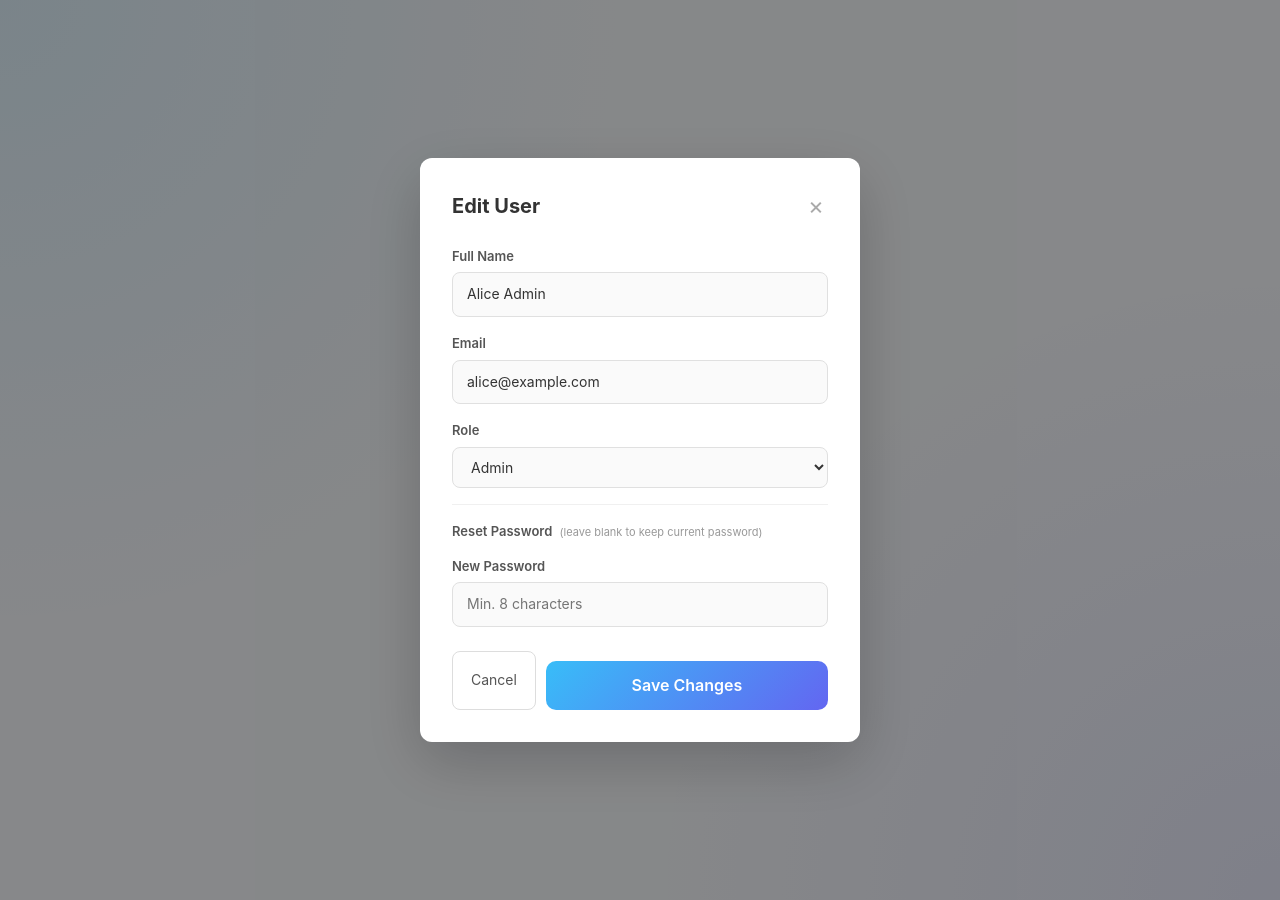
EditUserModal › failed submission › shows a generic fallback when the API has no error field
The image size is (1280, 900).
Click the button "Save Changes" at (687, 686), box [546, 661, 828, 710]
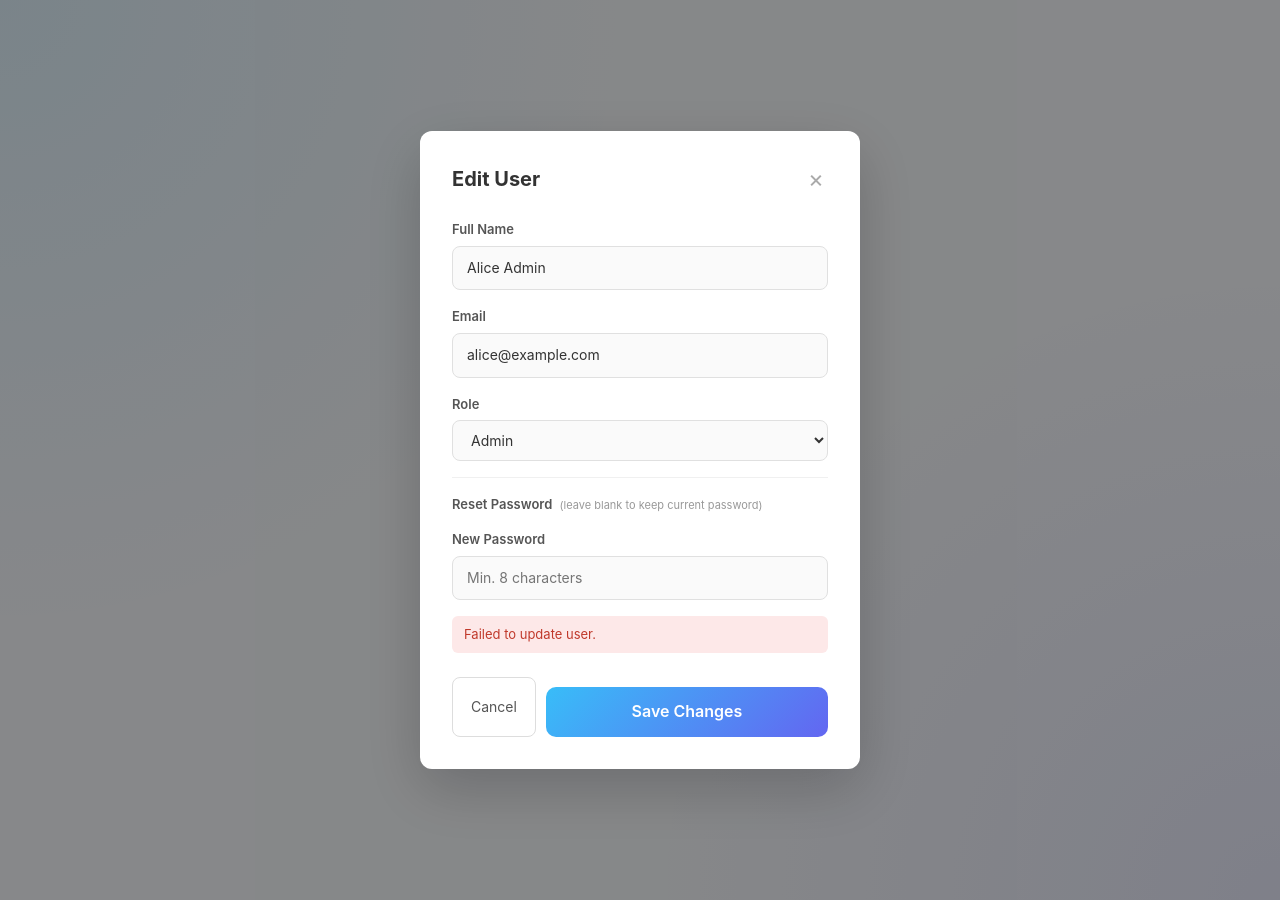
Result: the text "Failed to update user." is shown at [452, 616, 828, 653]
